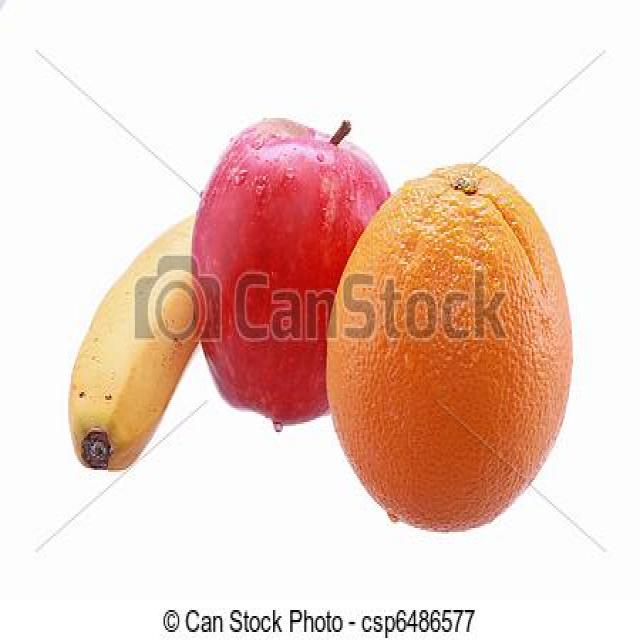apple: (190, 120, 388, 437)
banana: (56, 171, 236, 488)
orange: (332, 173, 583, 532)
